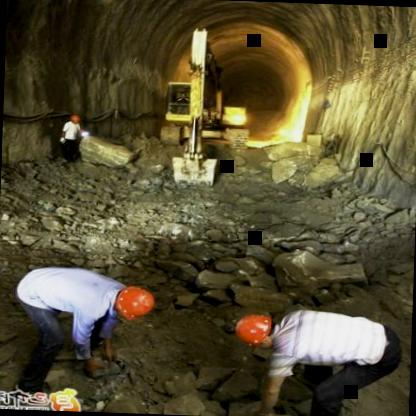helmet: (234, 312, 276, 350), (111, 286, 155, 322), (68, 109, 86, 126)
